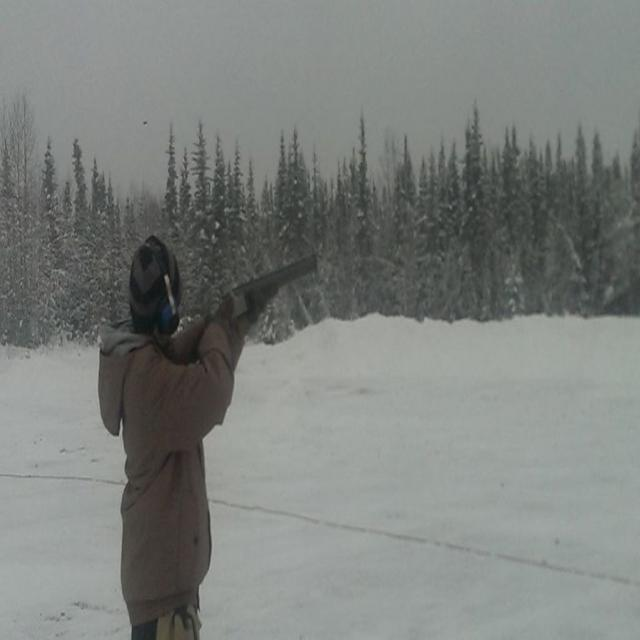weapon: (162, 248, 316, 365)
